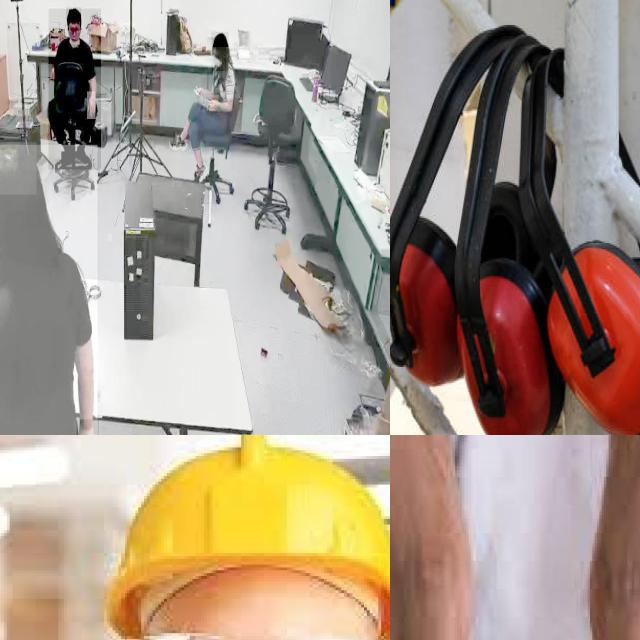Barefoots: (390, 435, 481, 640), (577, 435, 640, 640)
Ear-protection: (520, 43, 640, 435), (390, 25, 510, 381), (457, 42, 557, 435)
face_mask: (212, 47, 226, 71)
face_nomask: (68, 23, 80, 41)
hand_glove: (76, 419, 99, 435)
hand_noglove: (87, 91, 96, 120), (205, 95, 219, 111), (193, 82, 207, 98)
head_helmet: (106, 435, 390, 640)
head_nohelmet: (0, 142, 37, 195), (211, 32, 229, 48), (66, 7, 82, 23)
person: (0, 144, 98, 435), (176, 34, 238, 185), (48, 8, 102, 170)
shoes: (74, 146, 93, 172), (191, 160, 209, 187), (168, 132, 188, 154)
